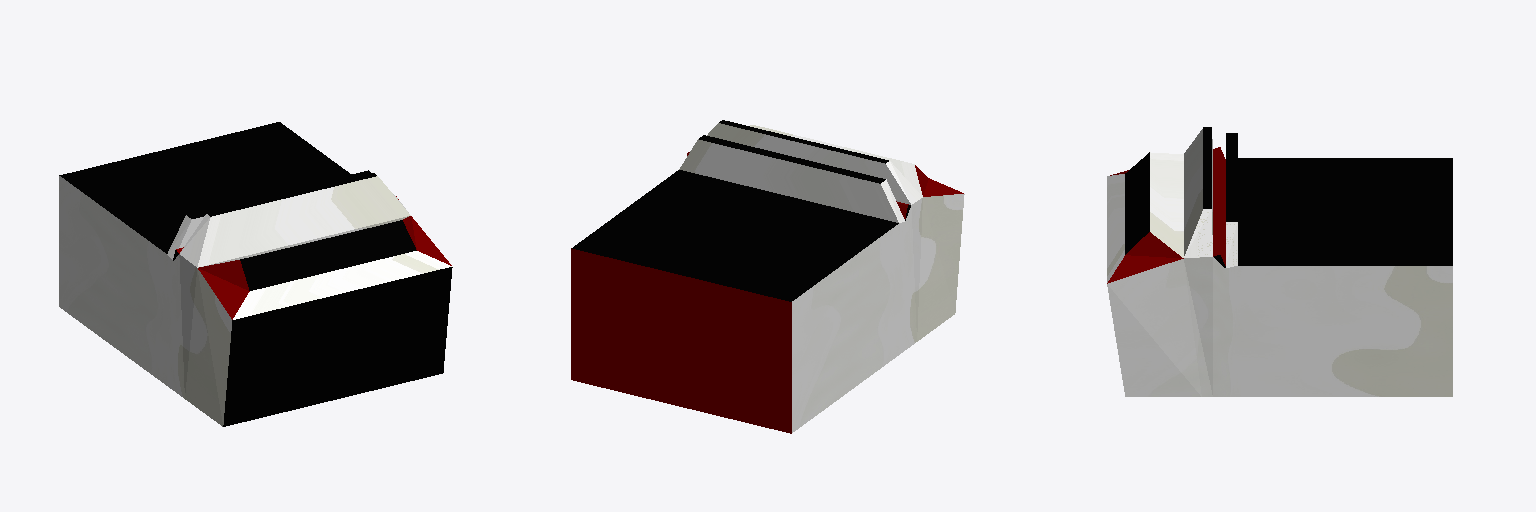
3 renders of one model, left to right at view 1: azimuth 30°, elevation 25°; view 2: azimuth 150°, elevation 25°; view 3: azimuth 270°, elevation 25°, orthographic.
Parts seen in each view (by area): view 1: Box002; view 2: Box002; view 3: Box002.
Part boxes in pixels (x1,y1,x2,y2): Box002: (59, 122, 452, 426); Box002: (571, 120, 964, 433); Box002: (1107, 127, 1452, 396).
Size of the model in its own units: 2376 by 1809 by 3236.
3 materials, 1 textured.